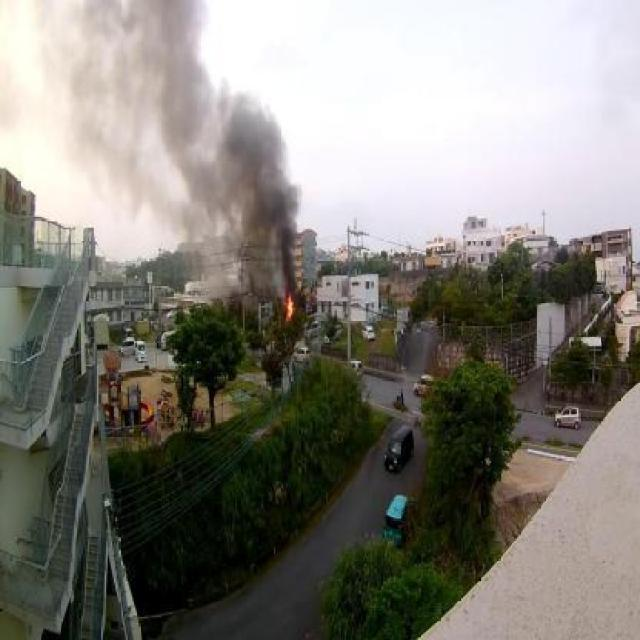Fire: (284, 296, 294, 318)
